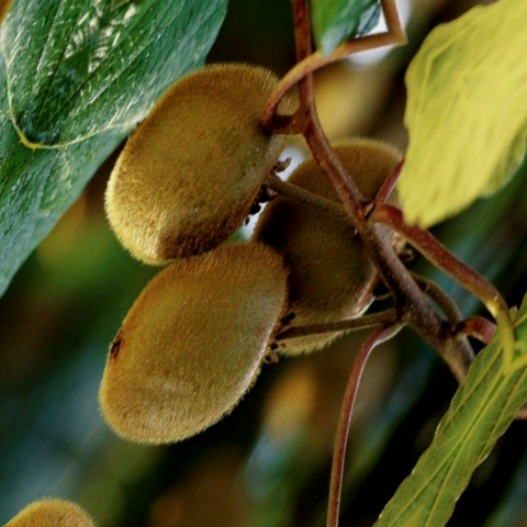kiwi: (55, 9, 342, 336), (59, 194, 327, 500), (183, 103, 452, 402)
